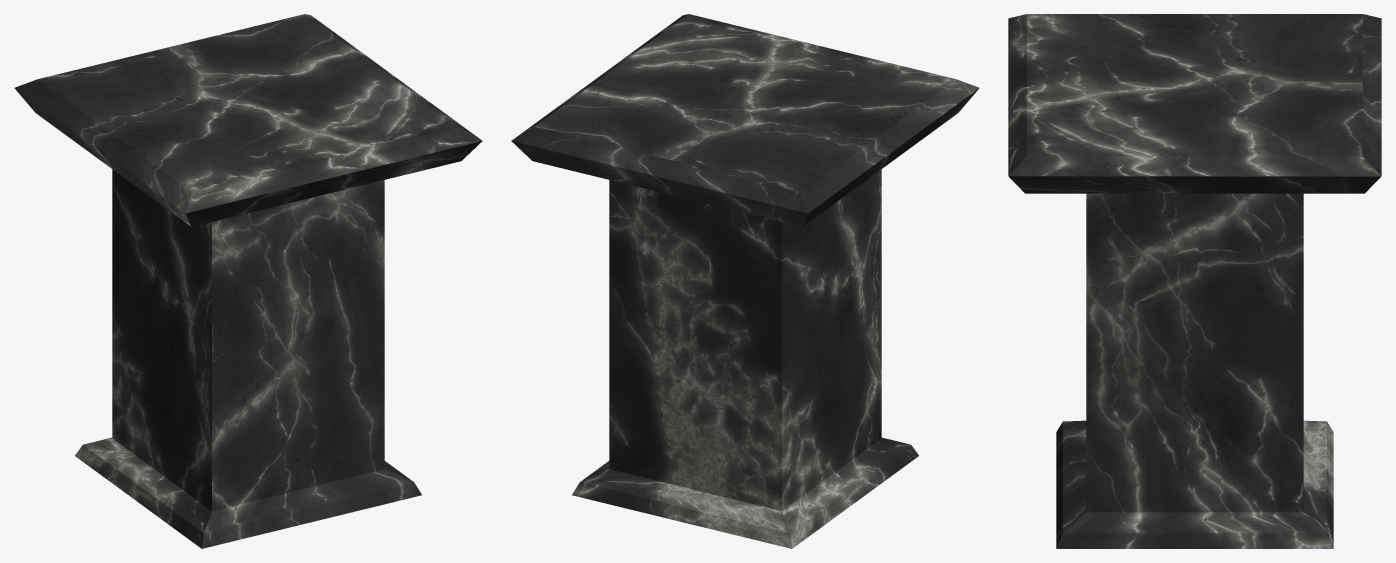
The model's file is Podest.fbx.
The picture shows the model from 3 angles, left to right: view 1: azimuth 30°, elevation 25°; view 2: azimuth 150°, elevation 25°; view 3: azimuth 270°, elevation 25°; orthographic projection. The views are drawn at different scales.
Visible parts, largest first — view 1: Podest; view 2: Podest; view 3: Podest.
Part boxes in pixels (<box>): Podest: <box>14,14,482,548</box>; Podest: <box>511,14,979,548</box>; Podest: <box>1008,14,1381,548</box>.
Bounding box in the file's own units: 275 × 329 × 275.
